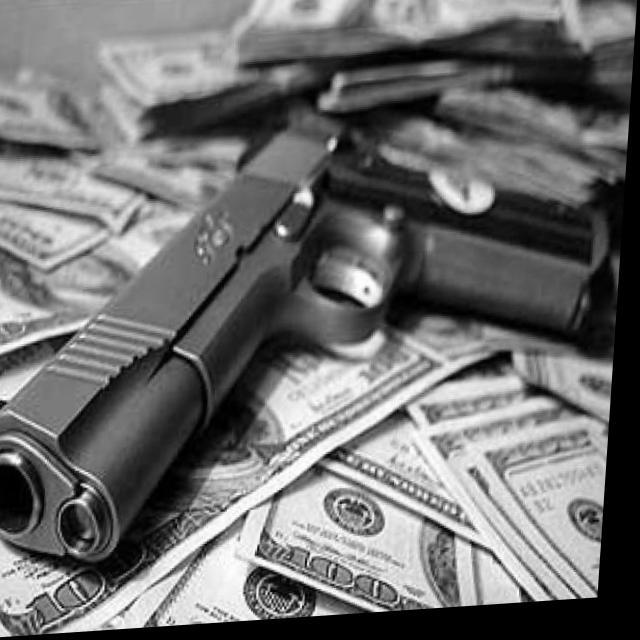weapon: (0, 106, 619, 574)
